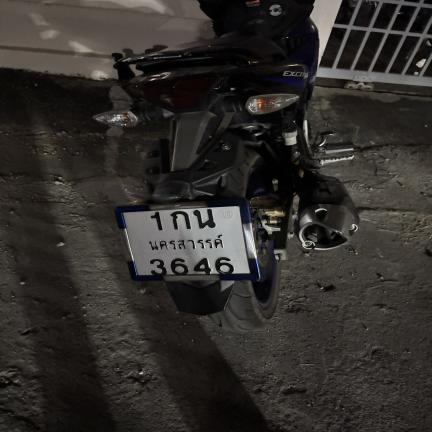1: (146, 212, 166, 231)
3: (147, 258, 167, 275)
4: (192, 258, 213, 275)
6: (216, 256, 236, 274), (170, 258, 190, 275)
A01: (170, 210, 193, 230)
A25: (193, 209, 218, 229)
NSN: (142, 233, 229, 251)
